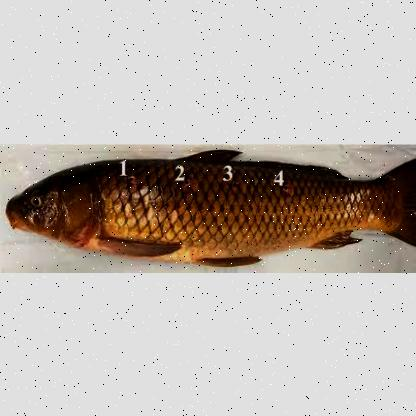ikan-mas: (5, 152, 413, 260)
